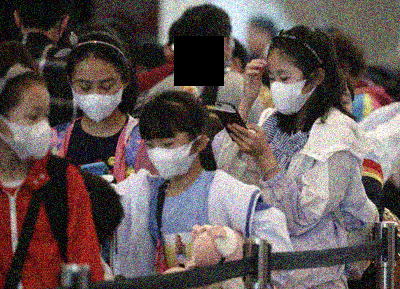with_mask: (143, 129, 199, 183), (70, 73, 125, 126), (5, 102, 51, 163), (267, 66, 318, 117)
